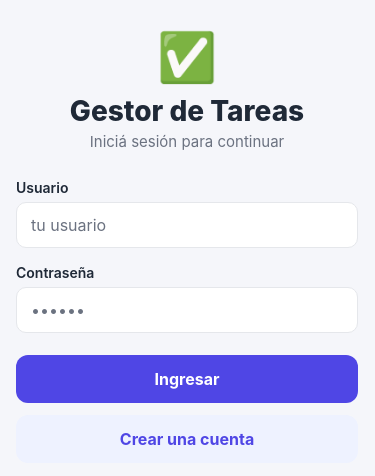
LoginScreen › validaciones › muestra error si las credenciales no existen
Type "noexiste" into the field with test id "usuario-input".
click(187, 225); type("noexiste")  # box [16, 202, 358, 248]
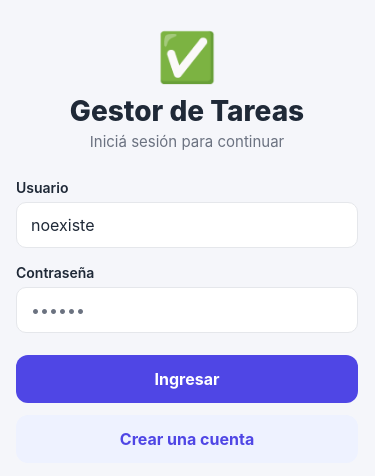
Type "clave123" into the password field with test id "password-input".
click(187, 310); type("clave123")  # box [16, 287, 358, 333]
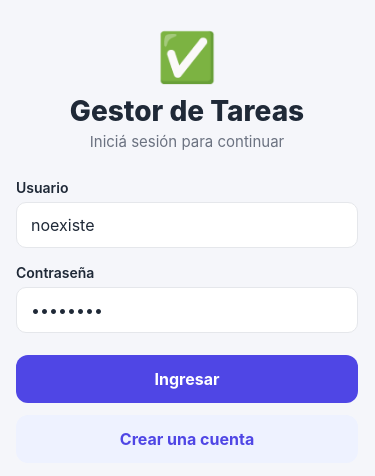
Click the button with test id "submit-button".
click(187, 379)  # box [16, 355, 358, 403]
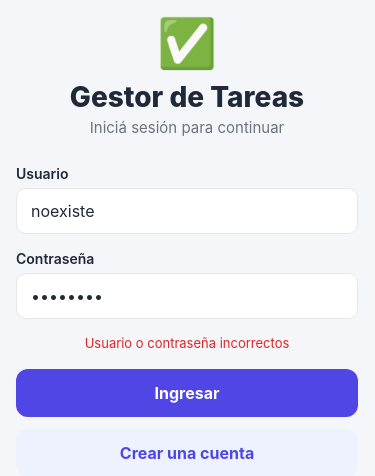
Result: the text "Usuario o contraseña incorrectos" is shown at [85, 335, 289, 351]
